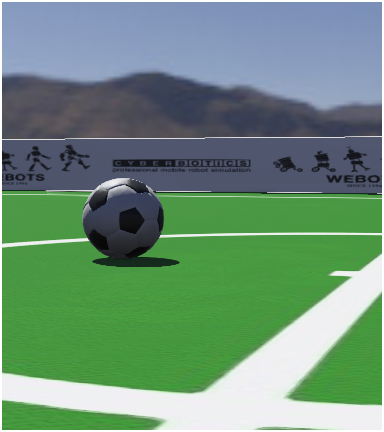Ball: (32, 124, 232, 323)
